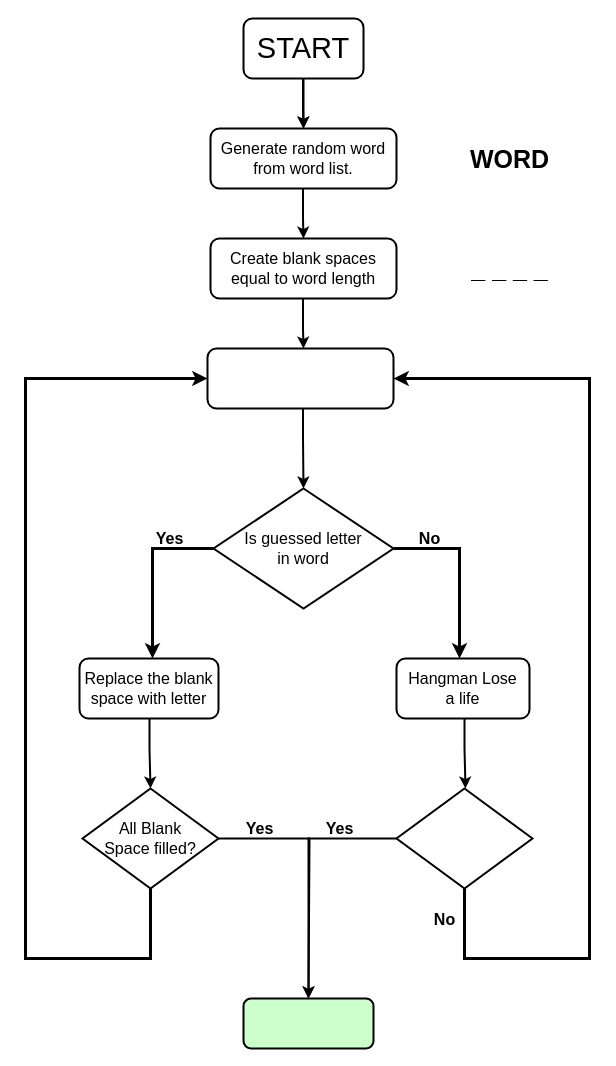
Image size: 616x1066. Some labels were removed from this diagram. The centre of each missing label's shape, as x and y in pixels:
All Lives lost?: point 464,838
Ask user to guess a letter: point 300,378
Game Over!: point 308,1023
